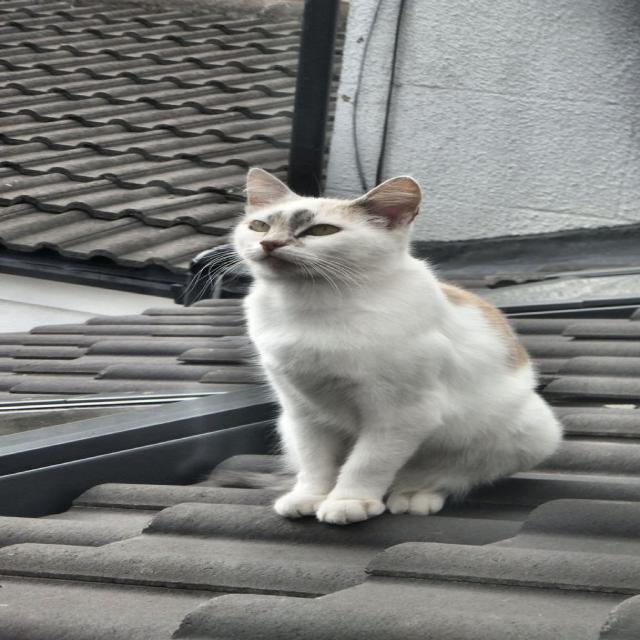Cat: (191, 166, 569, 521)
